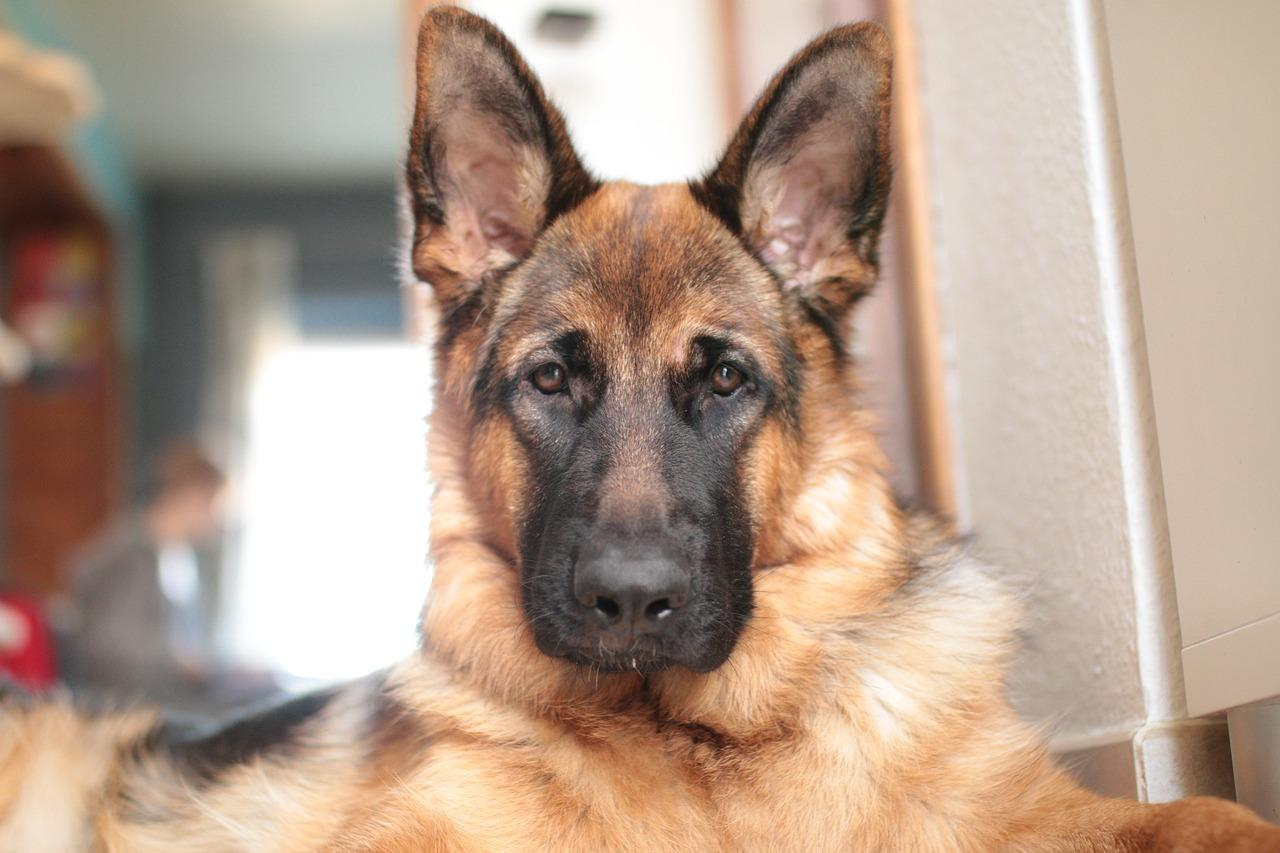german_shepherd: (399, 3, 920, 718)
